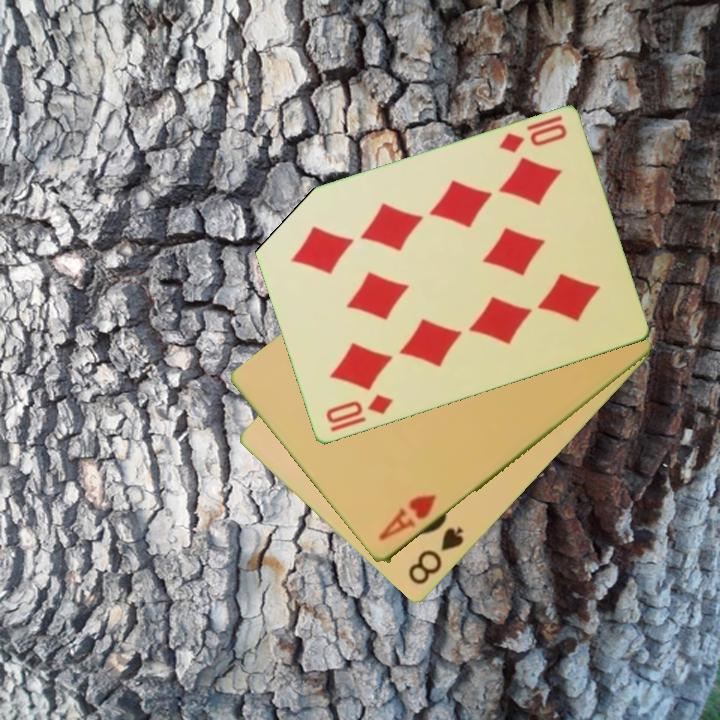10d: (494, 112, 570, 157), (322, 391, 396, 436)
8s: (404, 523, 467, 588)
Ah: (375, 491, 439, 545)
